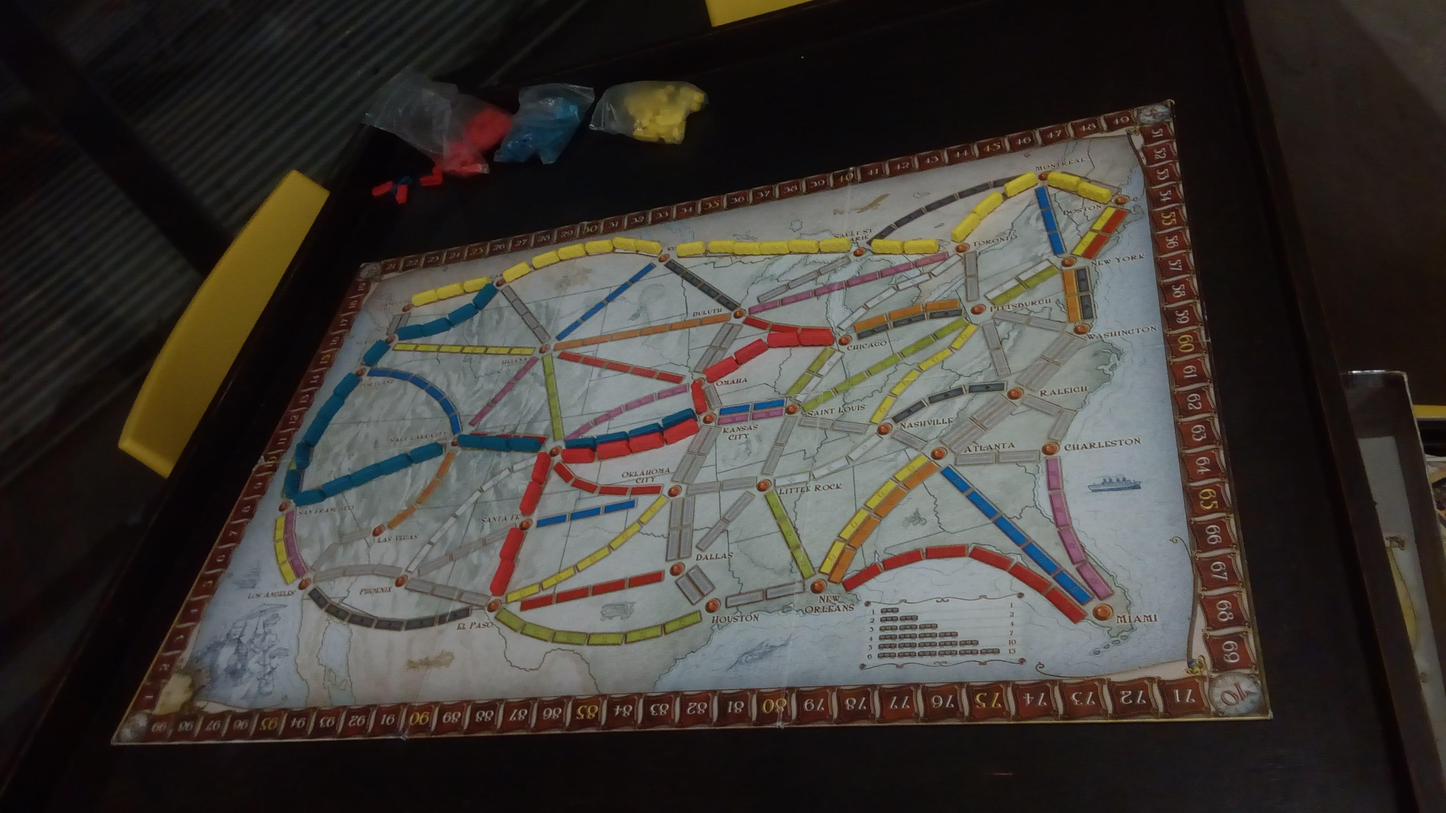blue_train: (350, 464, 382, 489), (362, 340, 390, 366), (408, 443, 444, 463), (377, 454, 411, 475), (304, 418, 330, 445), (447, 304, 478, 326), (661, 409, 695, 429), (334, 373, 360, 399), (319, 395, 345, 421), (319, 476, 351, 496), (473, 283, 497, 309), (292, 488, 325, 506), (421, 317, 452, 336), (627, 422, 663, 438), (283, 466, 301, 497), (296, 440, 313, 469), (509, 437, 542, 451), (482, 436, 509, 452), (396, 325, 426, 339), (596, 432, 627, 445), (457, 435, 484, 449), (565, 437, 596, 449)
red_train: (490, 560, 513, 595), (500, 528, 524, 561), (705, 357, 738, 381), (733, 340, 767, 363), (663, 421, 698, 443), (520, 482, 543, 515), (629, 432, 664, 453), (597, 440, 630, 459), (531, 453, 551, 483), (800, 328, 835, 345), (691, 380, 707, 413), (561, 448, 595, 463), (767, 331, 798, 347)
yellow_train: (1004, 172, 1038, 196), (951, 214, 981, 241), (973, 192, 1004, 217), (1077, 182, 1111, 202), (1046, 172, 1080, 191), (502, 262, 531, 282), (871, 238, 904, 254), (903, 239, 938, 253), (532, 251, 559, 268), (819, 238, 851, 252), (788, 239, 819, 253), (584, 240, 613, 254), (558, 244, 585, 259), (437, 283, 464, 298), (412, 290, 437, 306), (759, 241, 789, 254), (677, 241, 703, 256), (733, 241, 760, 255), (463, 277, 490, 291), (636, 239, 661, 254), (707, 240, 734, 252), (613, 237, 636, 250)
